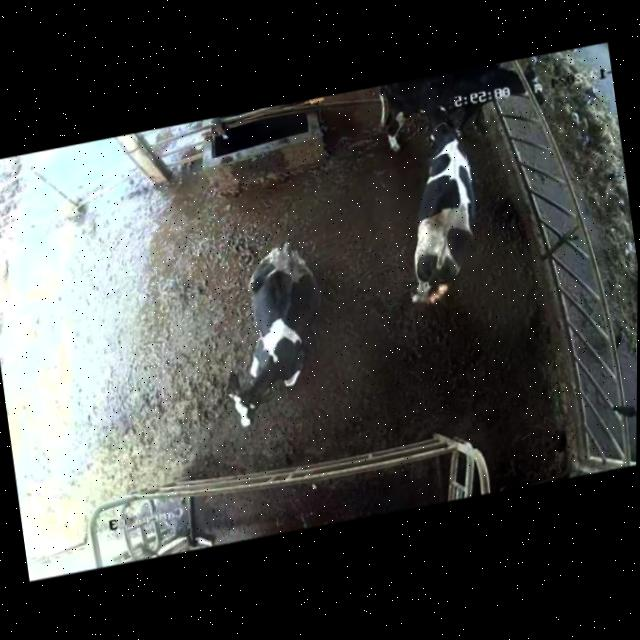eat: (458, 48, 586, 121)
lay: (183, 223, 350, 466)
stand: (377, 110, 502, 319)
